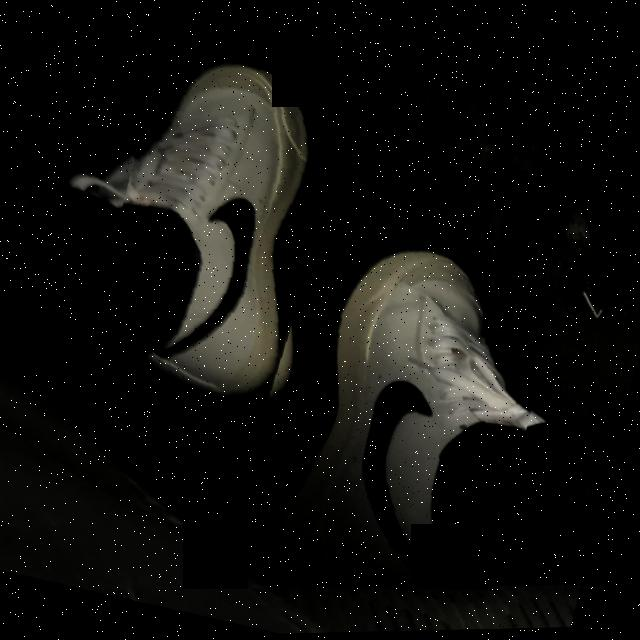shoe: (274, 229, 564, 615), (82, 44, 364, 421)
